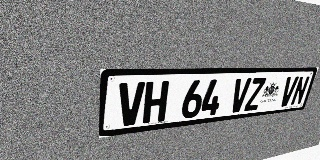4: (200, 79, 224, 117)
6: (180, 80, 206, 119)
H: (142, 81, 169, 124)
N: (290, 76, 310, 106)
V: (117, 82, 145, 127), (228, 78, 252, 113), (278, 76, 299, 107)
Z: (244, 78, 266, 111)
